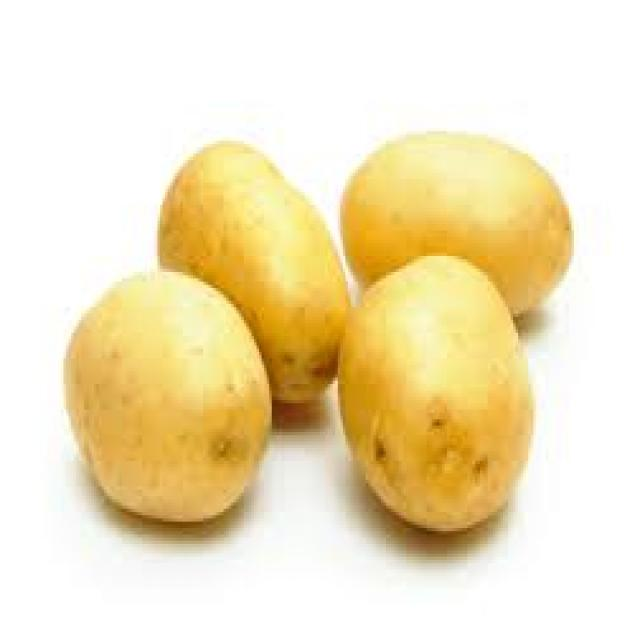Food -Biodegradable-: (55, 129, 575, 529)
